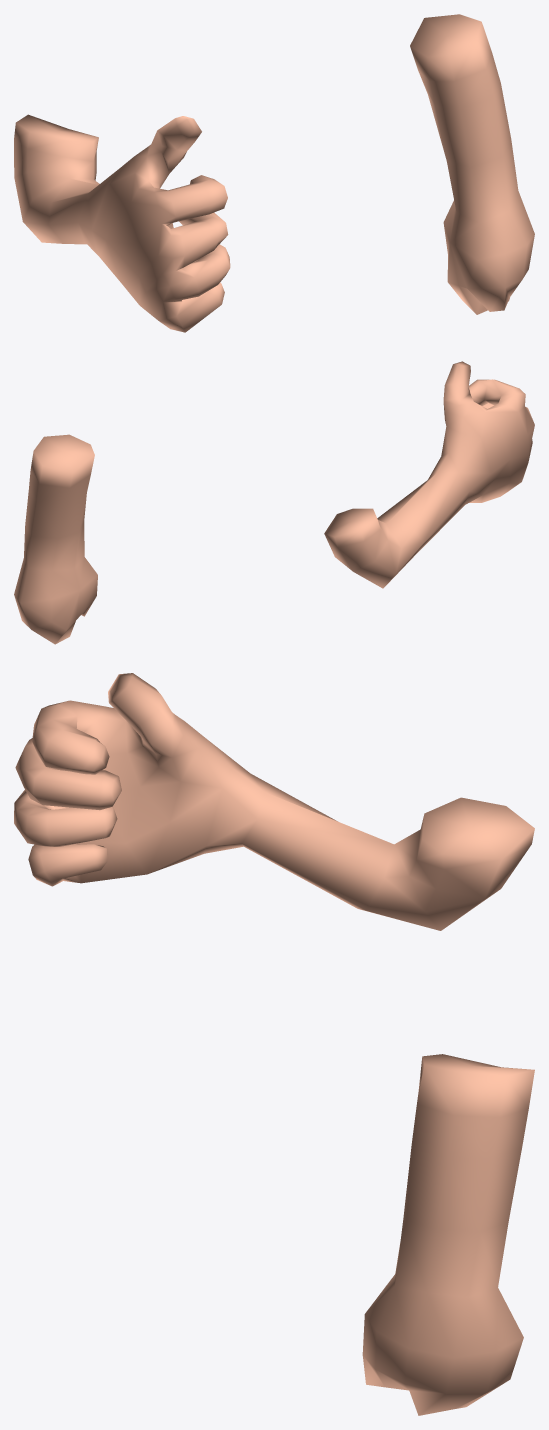
File: AF_M_Arm_04.FBX
3 views of the same model, one above another, from view 1: azimuth 30°, elevation 25°; view 2: azimuth 150°, elevation 25°; view 3: azimuth 270°, elevation 25° (orthographic). The views are drawn at different scales.
Visible parts, largest first — view 1: AF_M_Arm_04; view 2: AF_M_Arm_04; view 3: AF_M_Arm_04.
Part boxes in pixels (bbox=[...]): AF_M_Arm_04: bbox=[14, 14, 534, 332]; AF_M_Arm_04: bbox=[14, 361, 534, 644]; AF_M_Arm_04: bbox=[14, 673, 534, 1415].
Size of the model in its own units: 528 by 358 by 352.
1 material, 1 textured.
